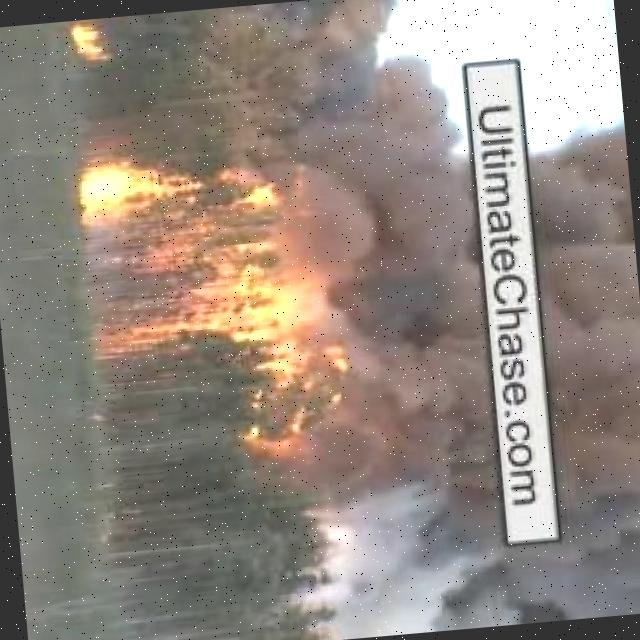fire: (51, 131, 333, 363), (238, 349, 358, 459), (62, 17, 117, 68)
